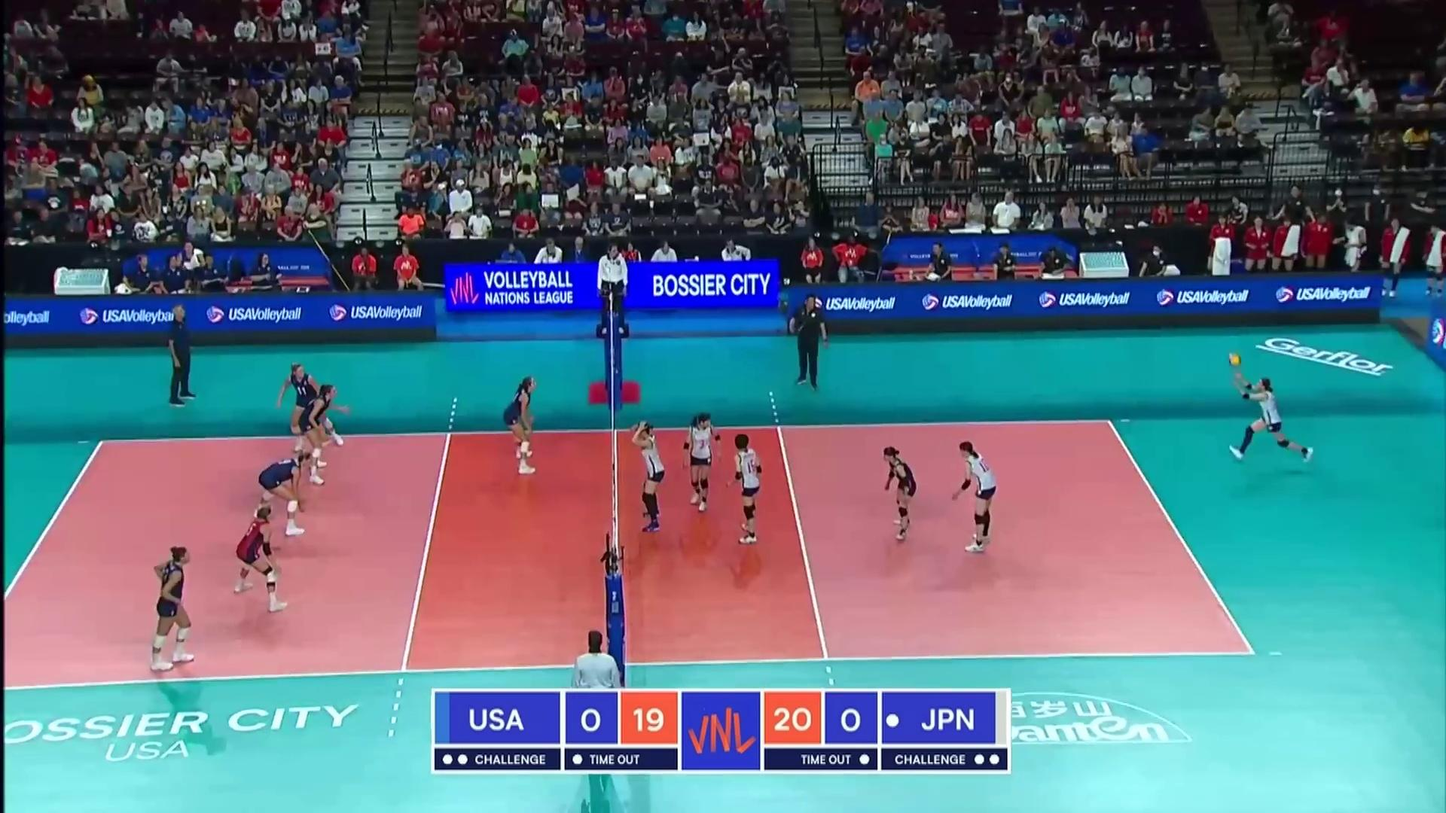player: (1235, 376, 1314, 464), (149, 545, 197, 669), (276, 364, 343, 451), (234, 506, 286, 614), (950, 442, 997, 551), (301, 384, 347, 483), (257, 454, 310, 537), (683, 412, 722, 519), (731, 435, 766, 545), (502, 374, 538, 475), (633, 421, 666, 531), (883, 446, 920, 544)
refree: (574, 630, 622, 773), (596, 244, 628, 333)
